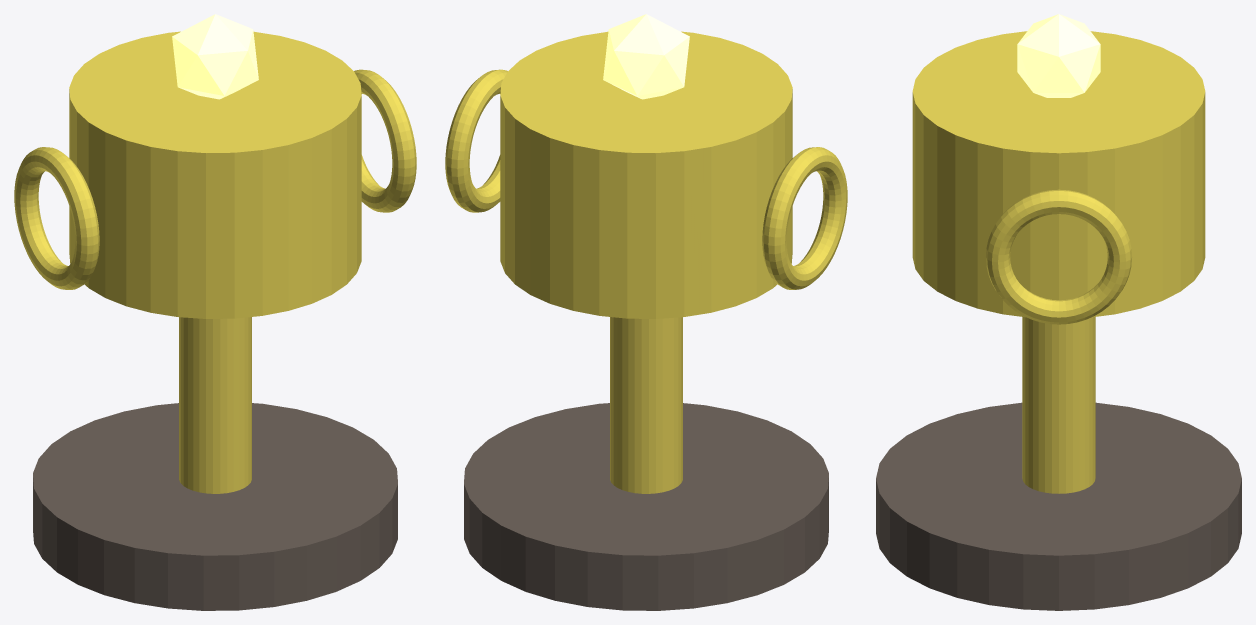
The model's file is victory_trophy.glb.
3 renders of one model, left to right at view 1: azimuth 30°, elevation 25°; view 2: azimuth 150°, elevation 25°; view 3: azimuth 270°, elevation 25°, orthographic.
Parts seen in each view (by area): view 1: Cylinder.002, Cylinder, Cylinder.001, Torus.006, Icosphere, Torus.007; view 2: Cylinder.002, Cylinder, Cylinder.001, Torus.006, Icosphere, Torus.007; view 3: Cylinder.002, Cylinder, Cylinder.001, Torus.007, Icosphere.
Boxes of the visible parts, left/top/right/bottom form: Cylinder.002: left=69, top=31, right=361, bottom=318; Cylinder: left=33, top=403, right=397, bottom=610; Cylinder.001: left=179, top=317, right=251, bottom=493; Torus.006: left=14, top=147, right=99, bottom=289; Icosphere: left=172, top=14, right=258, bottom=99; Torus.007: left=354, top=69, right=416, bottom=212; Cylinder.002: left=500, top=31, right=792, bottom=318; Cylinder: left=464, top=403, right=828, bottom=610; Cylinder.001: left=610, top=317, right=682, bottom=493; Torus.006: left=762, top=147, right=847, bottom=289; Icosphere: left=603, top=14, right=689, bottom=99; Torus.007: left=445, top=69, right=507, bottom=212; Cylinder.002: left=912, top=31, right=1205, bottom=317; Cylinder: left=876, top=402, right=1241, bottom=610; Cylinder.001: left=1022, top=317, right=1095, bottom=493; Torus.007: left=985, top=189, right=1132, bottom=324; Icosphere: left=1017, top=14, right=1100, bottom=97.
Bounding box in the file's own units: 3.2 × 4.7 × 3.
